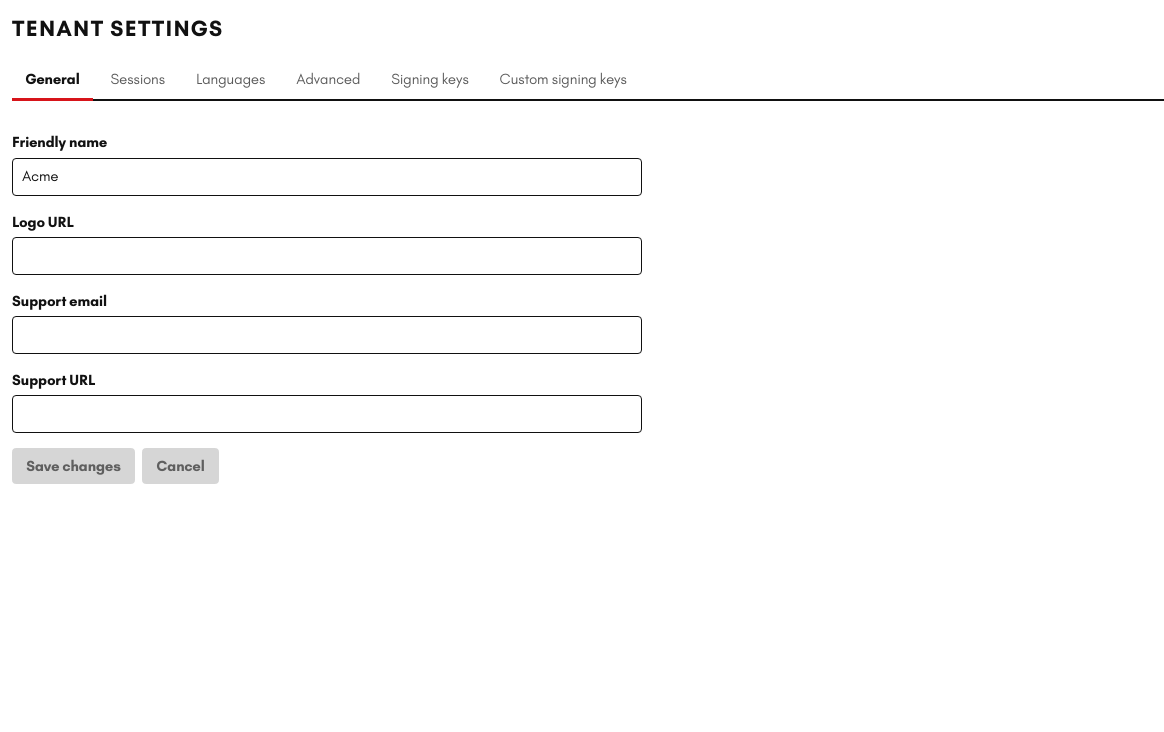
live tenant policy forms › shows API validation errors at the edited field
Type "bad" into the field with id "support_email" at (327, 335), box [12,316,642,354]
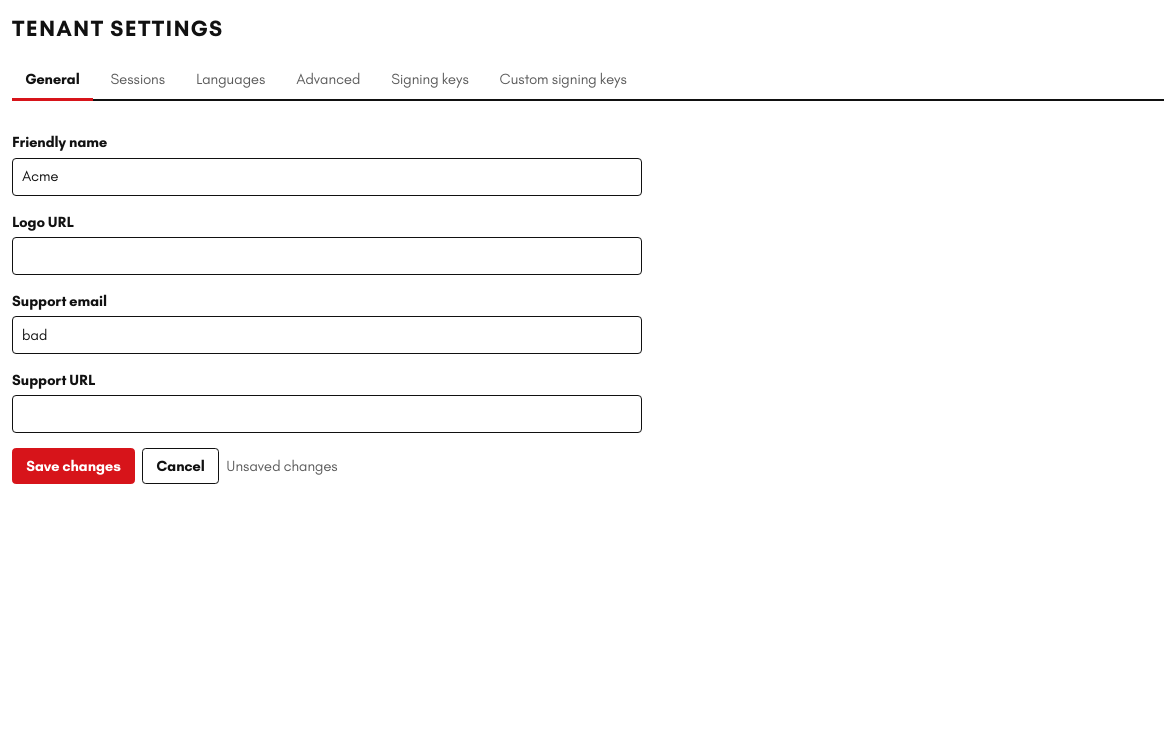
Submit the form, box [12,131,642,484]
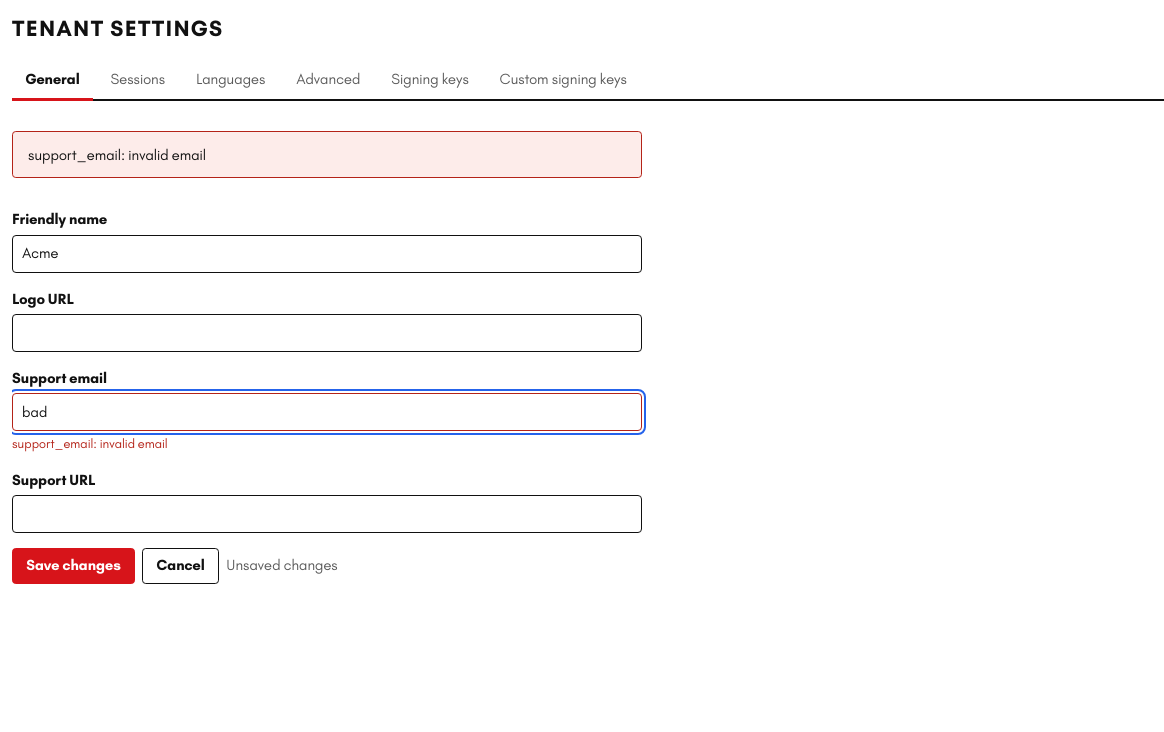
Result: the message with id "support_email-error" shows "invalid email" at [12,436,168,451]
